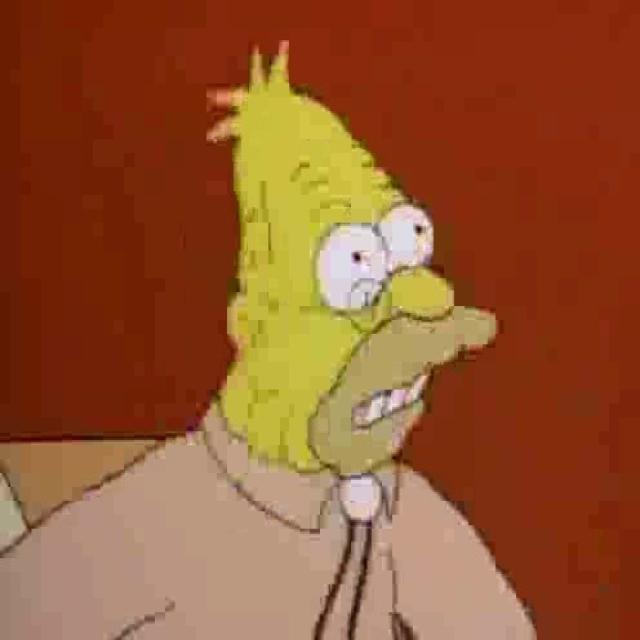Abraham Grampa Simpson: (203, 38, 502, 487)
